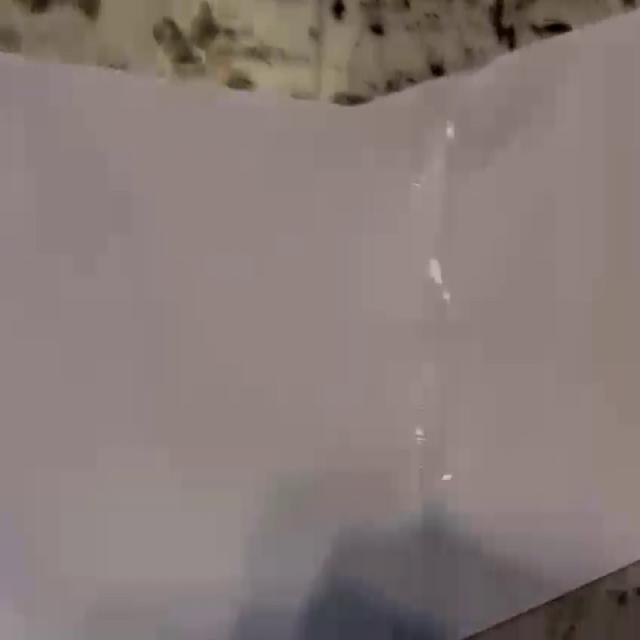road: (0, 9, 640, 637)
